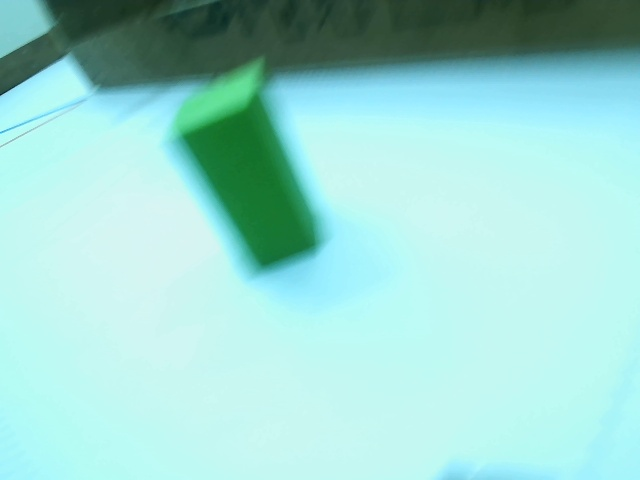green: (161, 73, 335, 267)
